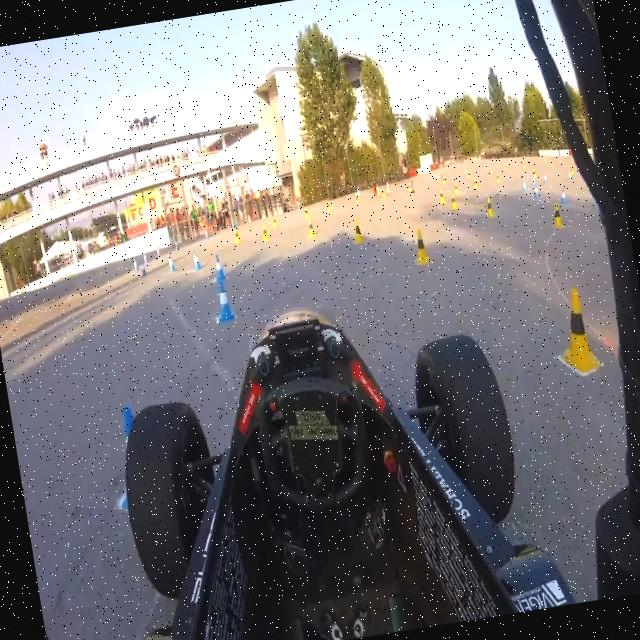blue_cone: (102, 398, 175, 525), (211, 279, 238, 325), (210, 252, 227, 282), (190, 247, 202, 272), (166, 253, 176, 275), (531, 182, 540, 204), (559, 186, 568, 206), (521, 178, 528, 195), (132, 258, 139, 273), (542, 170, 548, 187), (143, 252, 149, 267), (568, 169, 572, 182)
yellow_cone: (551, 274, 604, 383), (408, 226, 434, 270), (549, 199, 566, 233), (350, 214, 366, 247), (484, 193, 496, 220), (306, 217, 317, 238), (448, 190, 458, 212), (260, 223, 270, 243), (232, 226, 242, 246), (270, 214, 280, 233), (438, 188, 446, 205), (494, 170, 502, 187), (303, 204, 311, 220), (453, 180, 460, 198), (325, 200, 332, 213), (472, 176, 478, 190), (441, 174, 447, 188), (532, 166, 538, 179), (569, 166, 575, 177)
